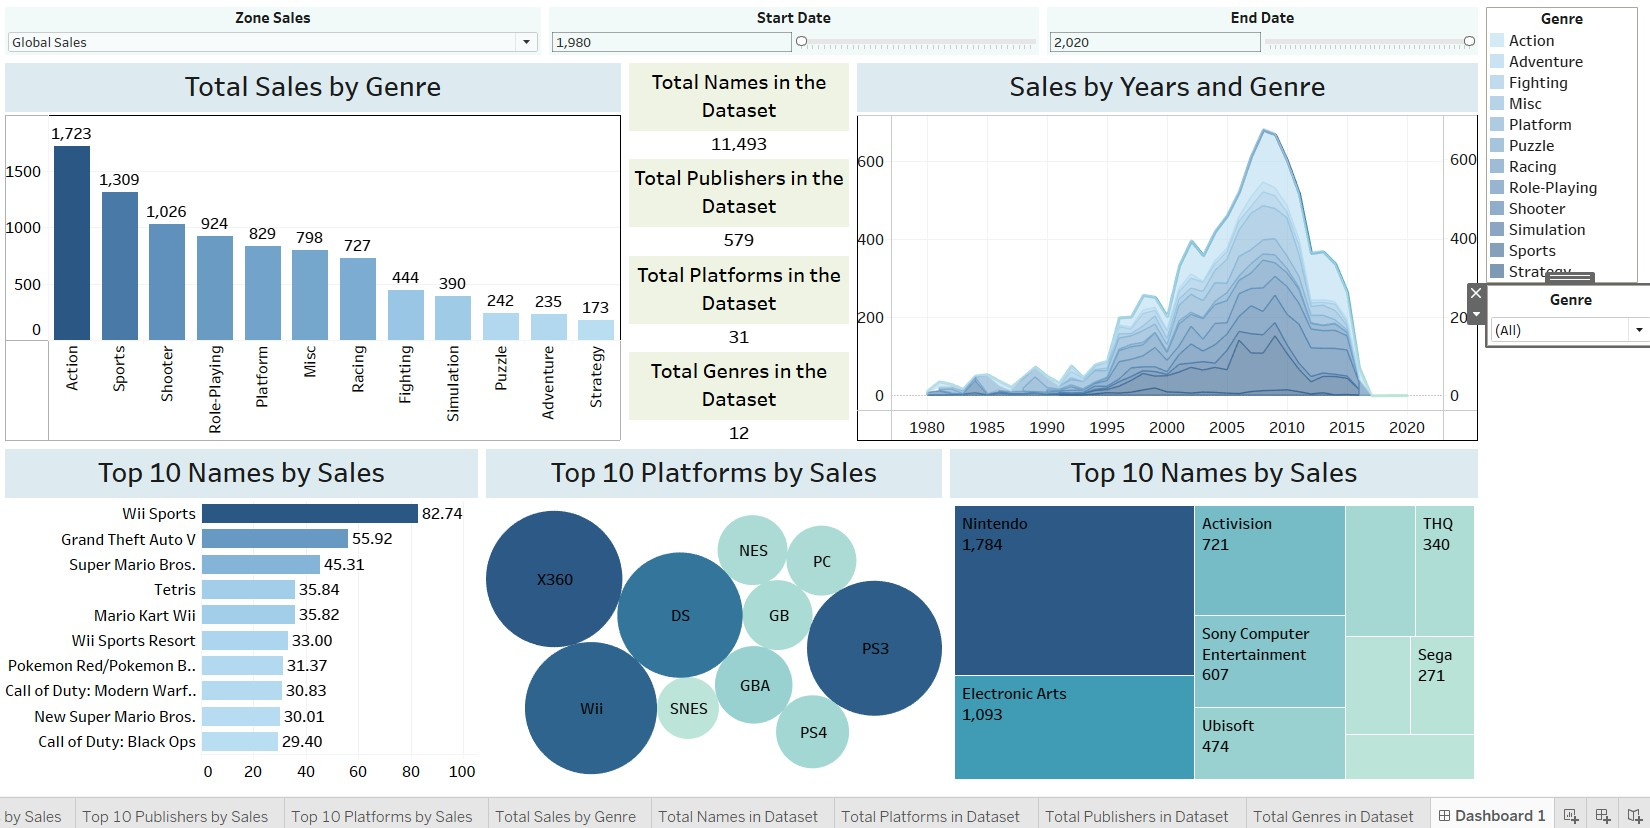

What the dashboard file says about the page in this screenshot:
{"tool":"tableau","page":{"name":"Dashboard 1","canvas":[1000,1000],"units":"permille","ordinal":0},"visuals":[{"type":"parameter","param":"[Parameters].[Parameter 1]","box":[4.8,10,328.3,69.9]},{"type":"parameter","param":"[Parameters].[Parameter 2]","box":[333.1,10,300.6,69.9]},{"type":"parameter","param":"[Parameters].[Parameter 3]","box":[633.7,10,264.9,69.9]},{"type":"legend","title":"Sales by years and genre","param":"[federated.01o1d9x0vfmg8i18sczp00tsfe4o].[none:Genre:nk]","box":[898.6,10,96.6,354.6]},{"type":"worksheet","title":"Total Sales by Genre","mark":"Automatic","rows":["Calculation_380554175036559360"],"cols":["Genre"],"box":[4.8,79.9,376.6,481.9]},{"type":"worksheet","title":"Total Names in Dataset","mark":"Automatic","box":[381.4,79.9,137.6,120.5]},{"type":"worksheet","title":"Sales by years and genre","mark":"Automatic","rows":["Calculation_380554175036559360","Calculation_380554175036559360"],"cols":["Year"],"box":[519,79.9,379.6,481.9]},{"type":"worksheet","title":"Total Publishers in Dataset","mark":"Automatic","box":[381.4,200.4,137.6,120.5]},{"type":"worksheet","title":"Total Platforms in Dataset","mark":"Automatic","box":[381.4,320.8,137.6,120.5]},{"type":"filter","title":"Sales by years and genre","param":"[federated.01o1d9x0vfmg8i18sczp00tsfe4o].[none:Genre:nk]","box":[901.6,362.1,101.4,76.2]},{"type":"worksheet","title":"Total Genres in Dataset","mark":"Automatic","box":[381.4,441.3,137.6,120.5]},{"type":"worksheet","title":"Top 10 Names by Sales","mark":"Automatic","rows":["Name"],"cols":["Calculation_380554175036559360"],"box":[4.8,561.8,290.3,428.2]},{"type":"worksheet","title":"Top 10 Platforms by Sales","mark":"Circle","box":[295.1,561.8,280,428.2]},{"type":"worksheet","title":"Top 10 Publishers by Sales","mark":"Automatic","box":[575.1,561.8,323.5,428.2]}]}

Visuals, with their boxes on the dashboard's canvas, which has no fixed pixel size, in thousandths of its width and height (x1, y1, x2, y2). These are canvas units, not pixel positions in the 1650x828 screenshot, which may show the page scaled, cropped or inside an application window:
parameter: (left=5, top=10, right=333, bottom=80)
parameter: (left=333, top=10, right=634, bottom=80)
parameter: (left=634, top=10, right=899, bottom=80)
"Sales by years and genre" legend: (left=899, top=10, right=995, bottom=365)
"Total Sales by Genre" worksheet: (left=5, top=80, right=381, bottom=562)
"Total Names in Dataset" worksheet: (left=381, top=80, right=519, bottom=200)
"Sales by years and genre" worksheet: (left=519, top=80, right=899, bottom=562)
"Total Publishers in Dataset" worksheet: (left=381, top=200, right=519, bottom=321)
"Total Platforms in Dataset" worksheet: (left=381, top=321, right=519, bottom=441)
"Sales by years and genre" filter: (left=902, top=362, right=1003, bottom=438)
"Total Genres in Dataset" worksheet: (left=381, top=441, right=519, bottom=562)
"Top 10 Names by Sales" worksheet: (left=5, top=562, right=295, bottom=990)
"Top 10 Platforms by Sales" worksheet (Circle marks): (left=295, top=562, right=575, bottom=990)
"Top 10 Publishers by Sales" worksheet: (left=575, top=562, right=899, bottom=990)
